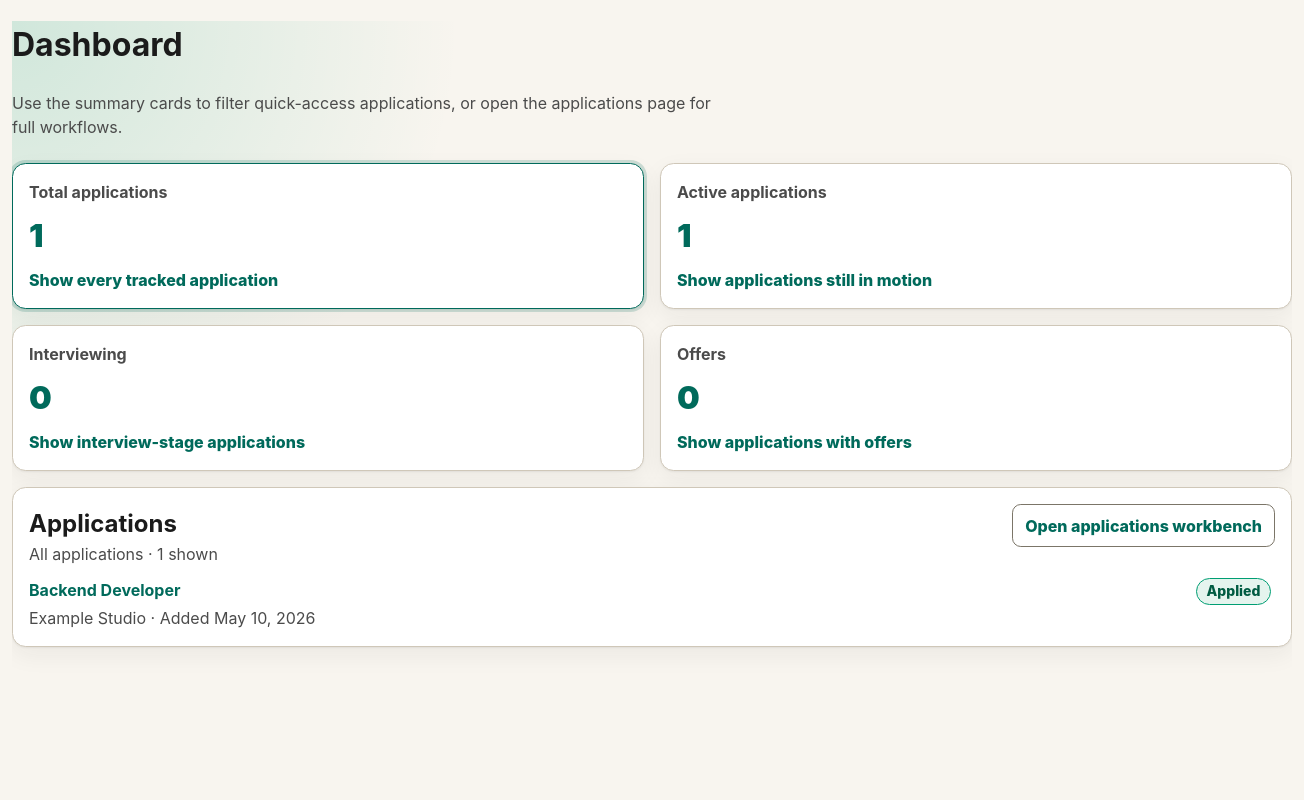
it: DashboardPage › shows an empty summary view when no applications match the selected card
The width and height of the screenshot is (1304, 800).
Expected: the link "Backend Developer" is shown, top-left (29, 580), bottom-right (180, 600)
Click the button "Offers 0 Show applications with offers".
click(702, 354)  # box top-left (660, 325), bottom-right (1292, 471)
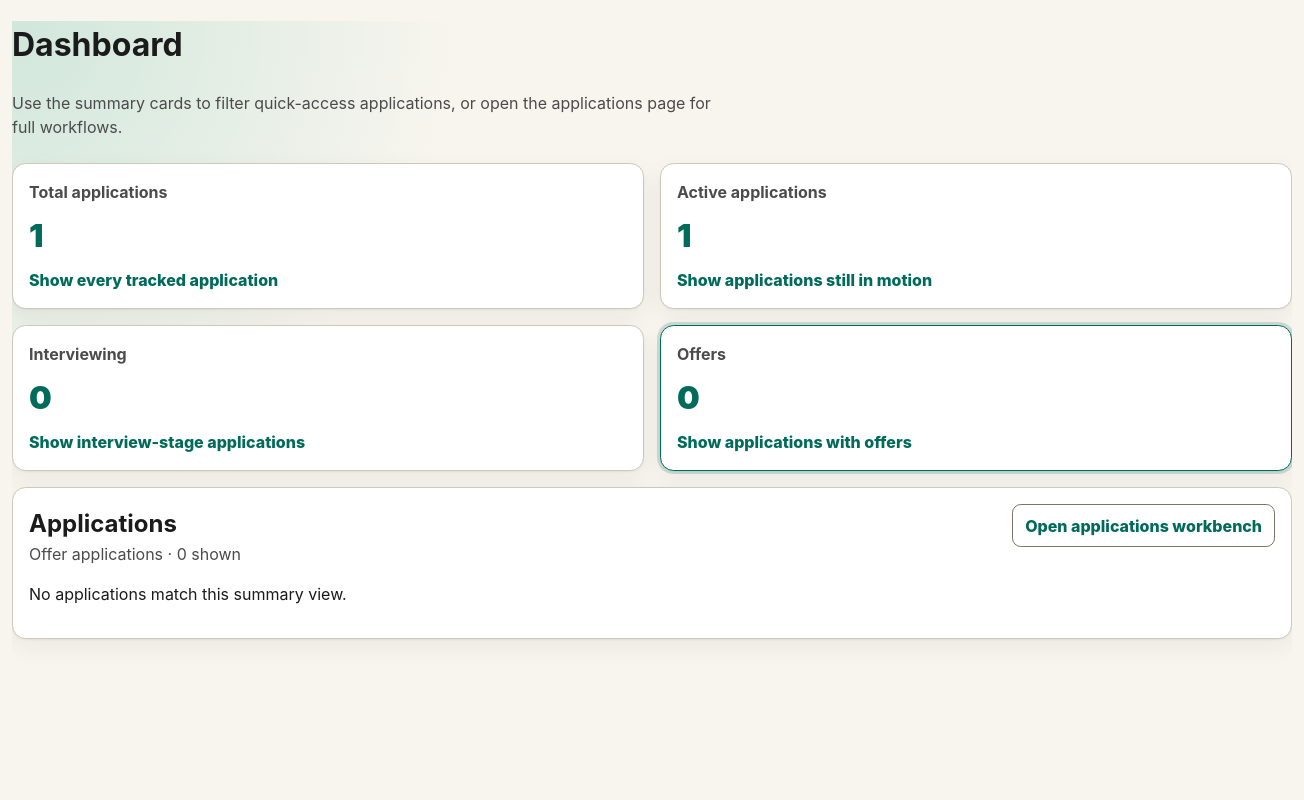
Result: the text "No applications match this summary view." is shown at top-left (29, 584), bottom-right (347, 604)
